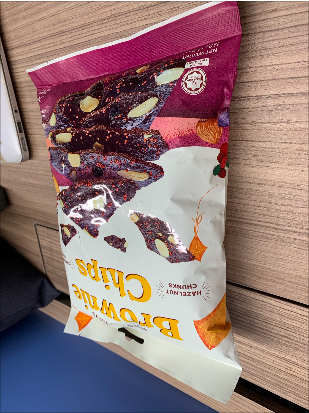Crackers_100-199g: (62, 86, 201, 337)
